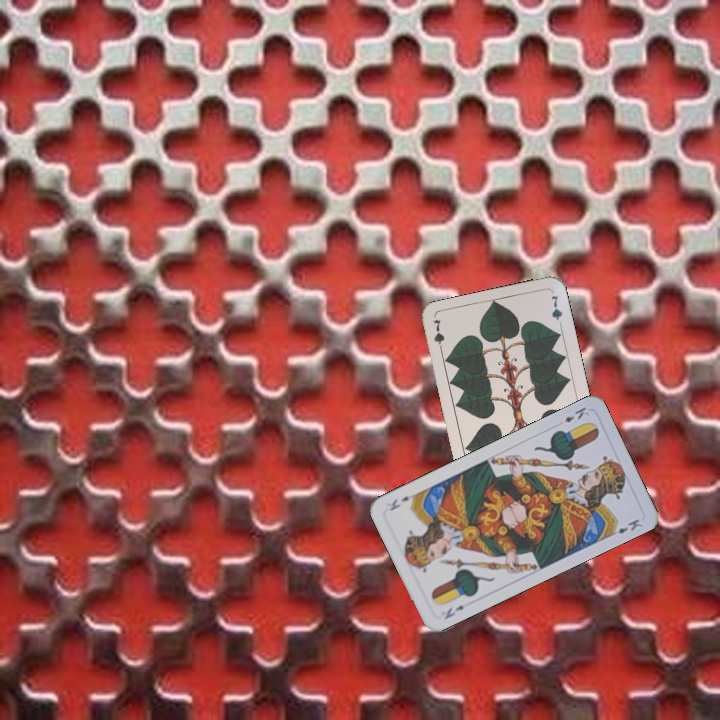EK: (560, 403, 592, 425), (440, 601, 467, 622)
G7: (429, 315, 447, 357)
